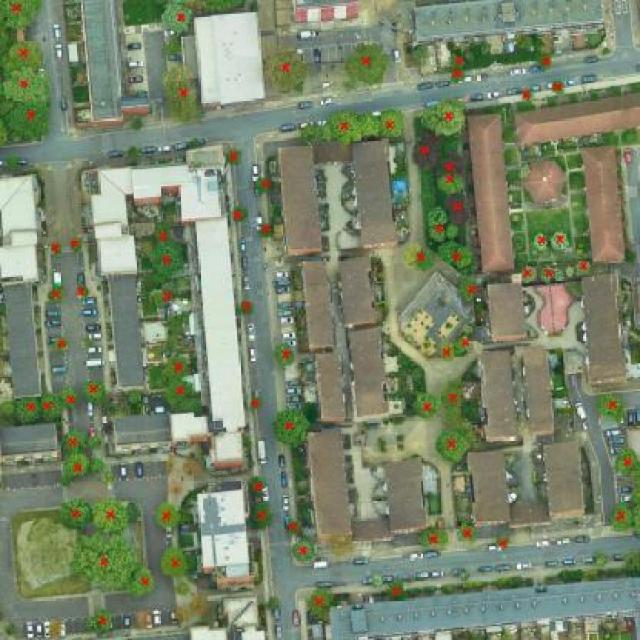tree: (74, 534, 137, 591), (159, 66, 207, 125), (264, 42, 310, 95), (0, 68, 51, 105), (345, 44, 390, 85), (11, 100, 51, 143), (424, 98, 467, 136), (92, 496, 130, 536), (148, 243, 188, 279), (273, 407, 310, 445), (436, 426, 472, 463), (4, 39, 45, 70), (425, 205, 460, 241), (0, 0, 40, 31), (441, 378, 465, 429), (437, 238, 475, 270), (326, 111, 363, 143), (413, 125, 439, 170), (60, 498, 95, 531), (307, 585, 341, 618), (400, 242, 435, 273), (593, 392, 629, 422), (160, 0, 191, 34), (128, 566, 158, 600), (155, 550, 191, 576), (446, 189, 469, 226), (412, 392, 442, 419), (166, 310, 186, 350), (610, 501, 635, 533), (160, 357, 194, 380), (17, 394, 43, 424), (406, 43, 437, 68), (154, 502, 181, 530), (89, 606, 116, 634), (183, 0, 246, 12), (378, 109, 404, 138), (434, 171, 466, 194), (165, 380, 193, 406), (148, 282, 178, 306), (299, 121, 330, 144), (418, 526, 450, 548), (436, 152, 466, 175), (64, 450, 88, 478), (615, 447, 639, 475), (153, 218, 175, 248), (457, 270, 478, 301), (328, 535, 358, 556), (42, 390, 62, 421), (455, 521, 479, 545), (60, 430, 86, 452), (254, 501, 274, 528), (359, 112, 381, 136), (456, 323, 472, 355), (83, 380, 106, 402), (178, 398, 205, 416), (260, 592, 282, 614), (135, 609, 156, 631), (61, 388, 81, 410), (294, 538, 314, 560), (552, 229, 572, 251), (518, 262, 538, 284), (275, 344, 293, 368), (124, 501, 141, 525), (174, 605, 191, 629), (254, 176, 275, 195), (0, 396, 18, 418), (510, 32, 533, 49), (2, 154, 21, 174), (439, 342, 458, 362), (190, 594, 208, 615), (0, 110, 11, 144), (386, 580, 406, 598), (532, 230, 550, 250), (250, 476, 265, 499), (237, 298, 255, 317), (574, 259, 594, 276), (536, 52, 553, 72), (224, 147, 242, 165), (514, 160, 532, 178), (592, 550, 610, 568), (543, 262, 557, 284), (52, 334, 68, 352), (126, 388, 142, 406), (232, 205, 250, 221), (477, 38, 492, 57), (74, 286, 91, 302), (88, 458, 105, 474), (449, 68, 466, 84), (285, 517, 301, 534), (551, 78, 566, 96), (175, 581, 191, 597), (449, 54, 466, 69), (496, 532, 510, 550), (48, 286, 63, 302), (462, 49, 478, 63), (520, 88, 534, 104), (49, 242, 63, 256), (259, 223, 273, 237), (456, 568, 472, 580), (554, 265, 566, 281), (89, 436, 102, 450), (248, 395, 262, 408), (564, 264, 576, 279), (82, 338, 96, 350), (3, 622, 15, 636), (70, 238, 82, 251), (372, 575, 385, 587), (104, 471, 115, 483), (58, 476, 70, 484)
